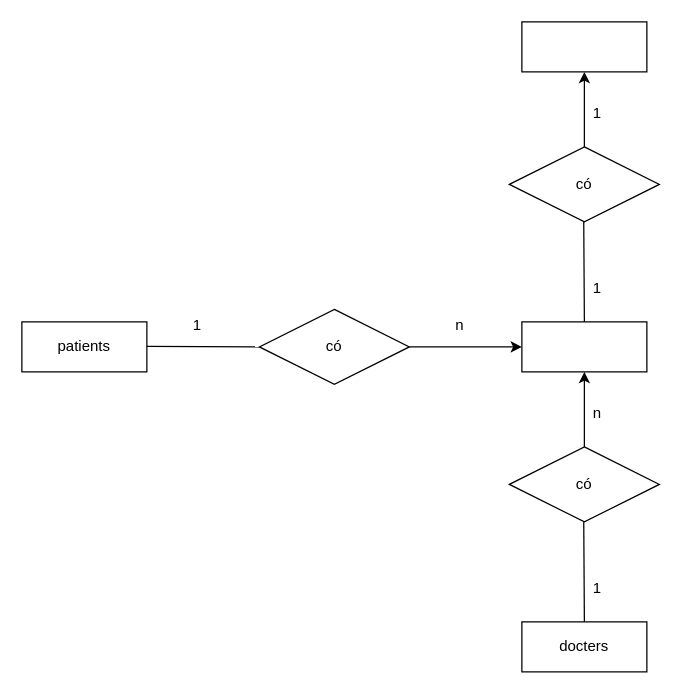
Image size: 681x694. Some labels were removed from this diagram. The centre of each missing label's shape, as x and y in pixels:
appointments: point 584,346
prepscriptions: point 584,46
